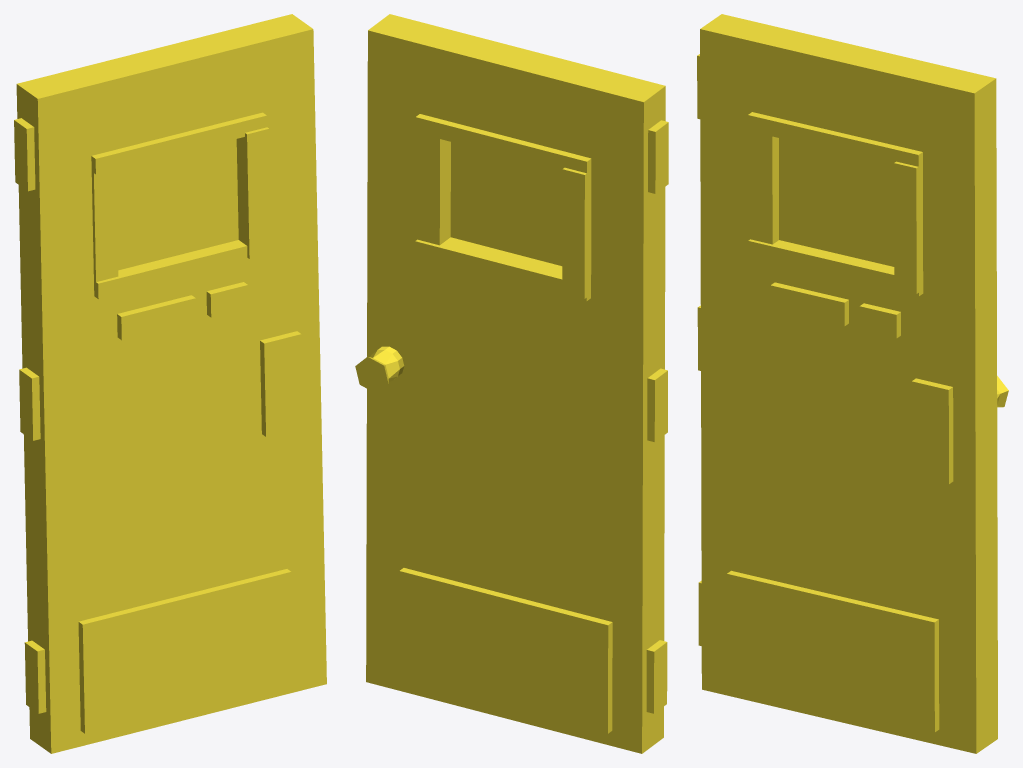
The picture shows the model from 3 angles, left to right: view 1: azimuth 30°, elevation 25°; view 2: azimuth 150°, elevation 25°; view 3: azimuth 330°, elevation 25°; orthographic projection.
Size of the model in its own units: 0.39 by 0.8452 by 0.1067.
